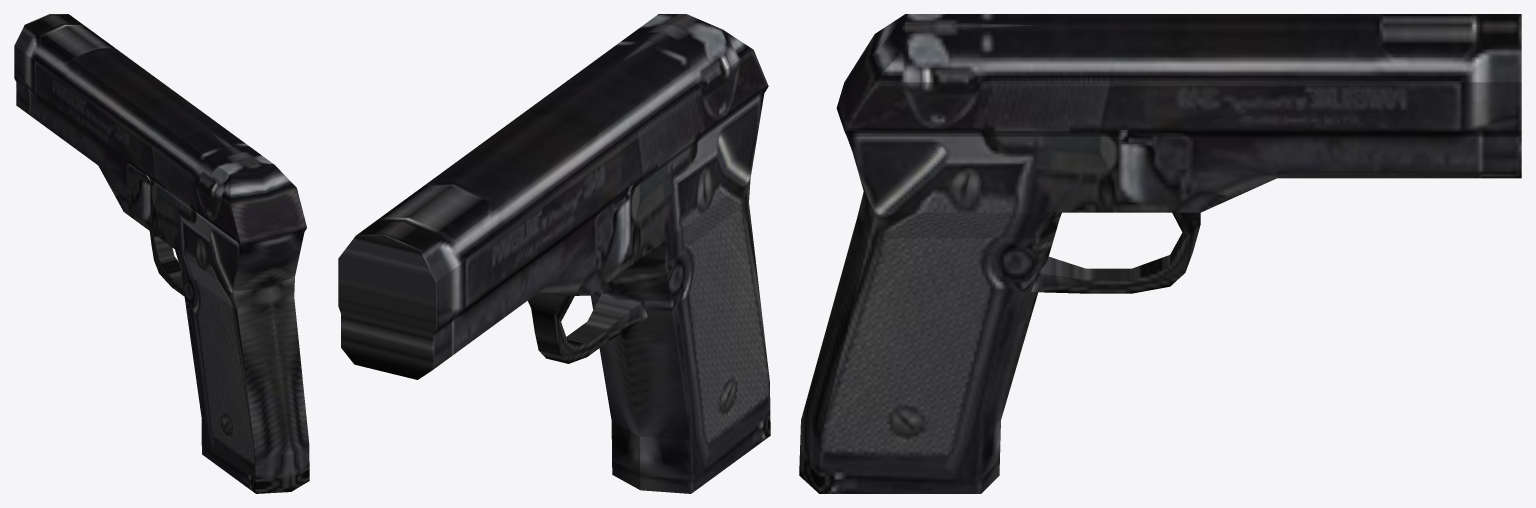
The model's file is Gun1.obj.
3 views of the same model, side by side, from view 1: azimuth 30°, elevation 25°; view 2: azimuth 150°, elevation 25°; view 3: azimuth 270°, elevation 25° (orthographic). The views are drawn at different scales.
Parts seen in each view (by area): view 1: Gun1.obj; view 2: Gun1.obj; view 3: Gun1.obj.
Boxes of the visible parts, bbox=[...] form: Gun1.obj: bbox=[14, 14, 309, 493]; Gun1.obj: bbox=[338, 14, 770, 493]; Gun1.obj: bbox=[799, 14, 1521, 493].
Size of the model in its own units: 0.075 by 0.325 by 0.4726.
